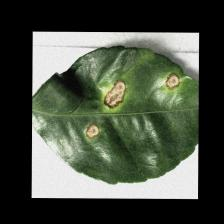canker: (65, 57, 184, 141)
